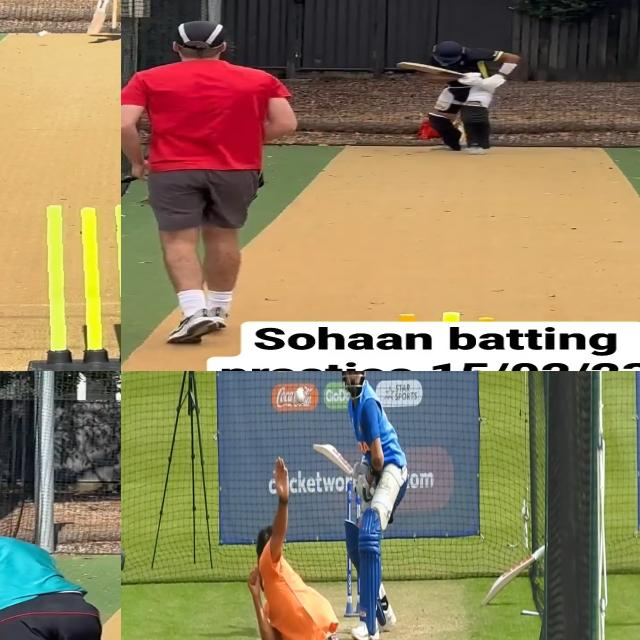Cricket ball: (294, 385, 307, 405), (35, 30, 51, 38)
Stumps: (32, 204, 121, 371)
